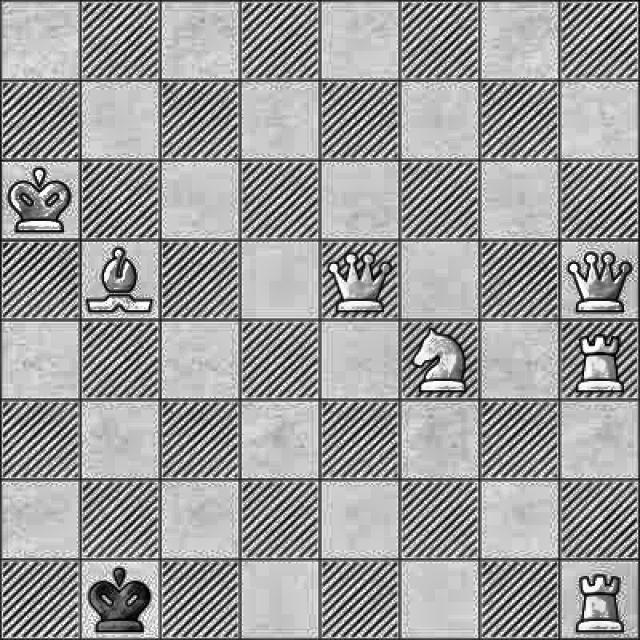black king: (88, 564, 154, 637)
white bishop: (81, 240, 158, 315)
white king: (0, 162, 74, 235)
white queen: (322, 245, 395, 318), (566, 244, 632, 314)
white rook: (575, 564, 629, 638), (574, 328, 627, 393)
whiteknight: (402, 324, 470, 396)
